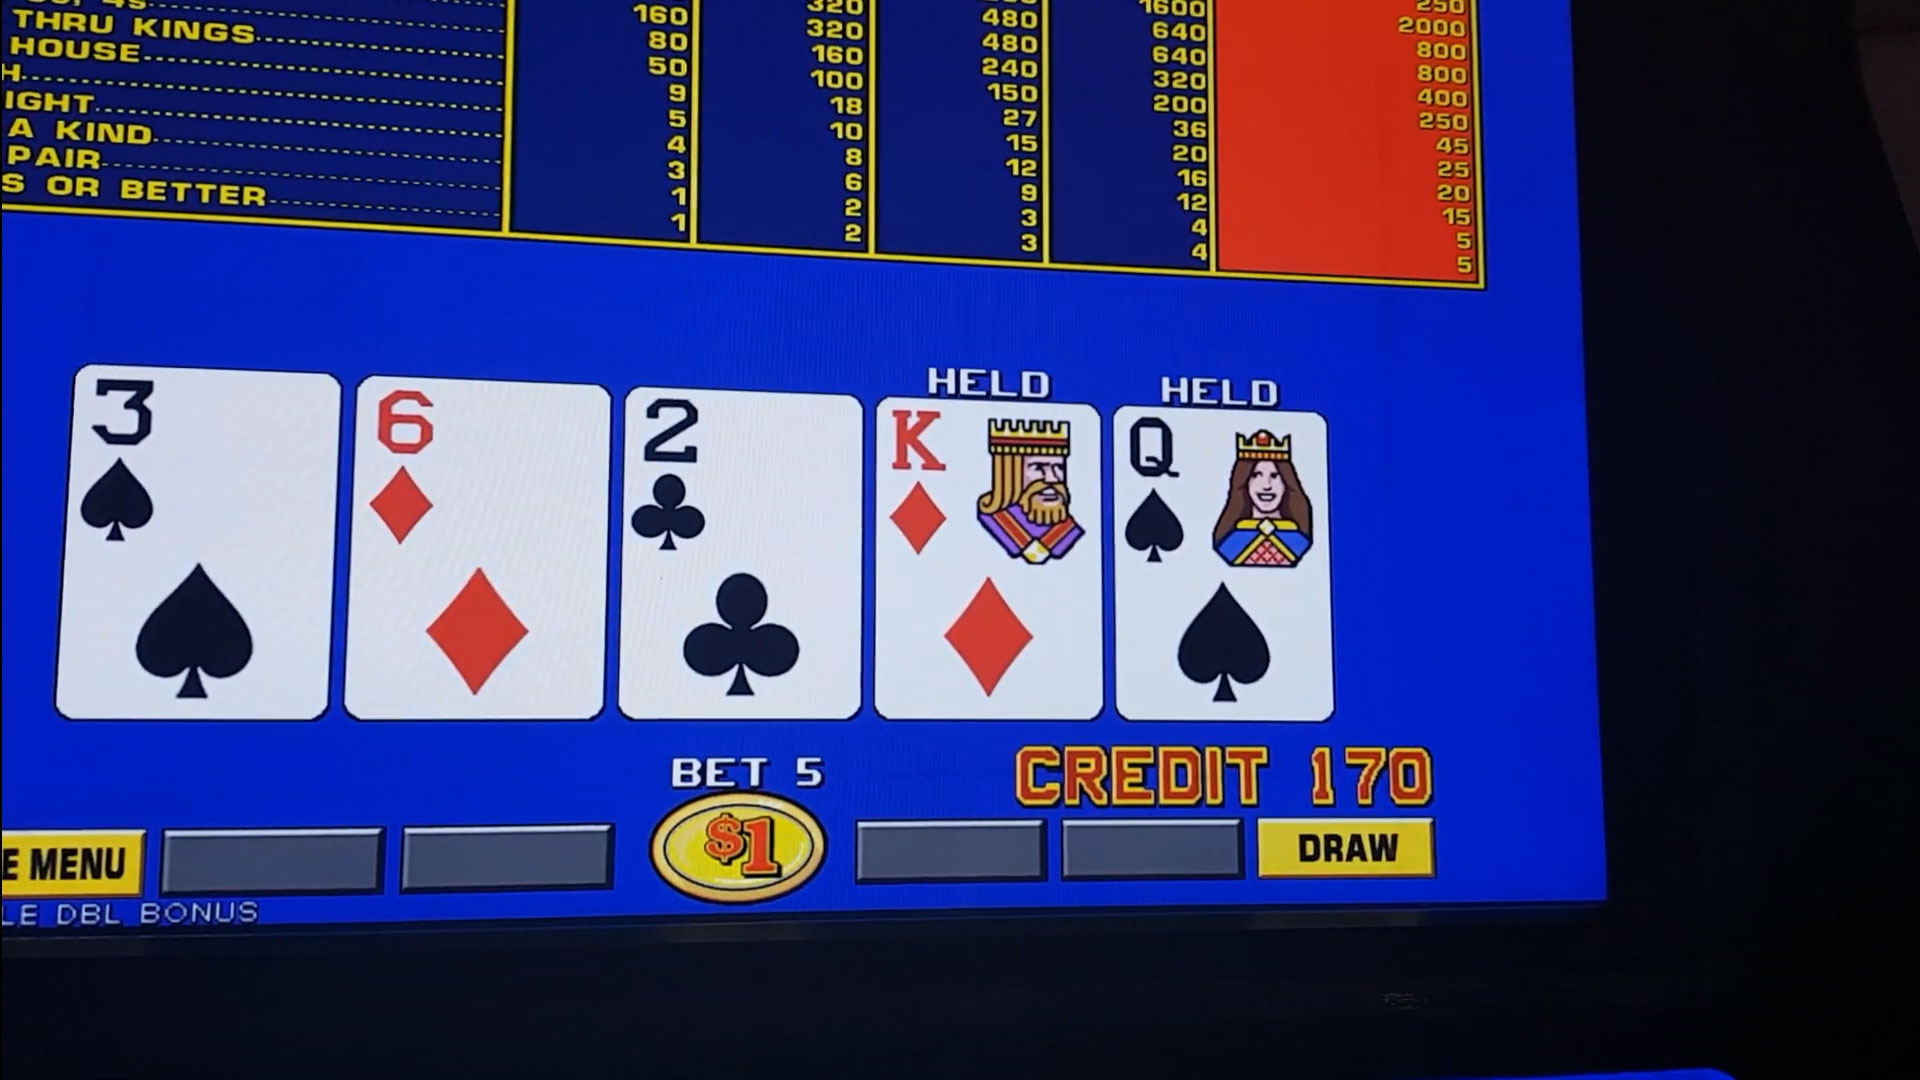C2: (626, 402, 856, 564)
D6: (359, 390, 601, 563)
DK: (881, 406, 1100, 574)
S3: (76, 378, 331, 553)
SQ: (1122, 415, 1323, 578)
